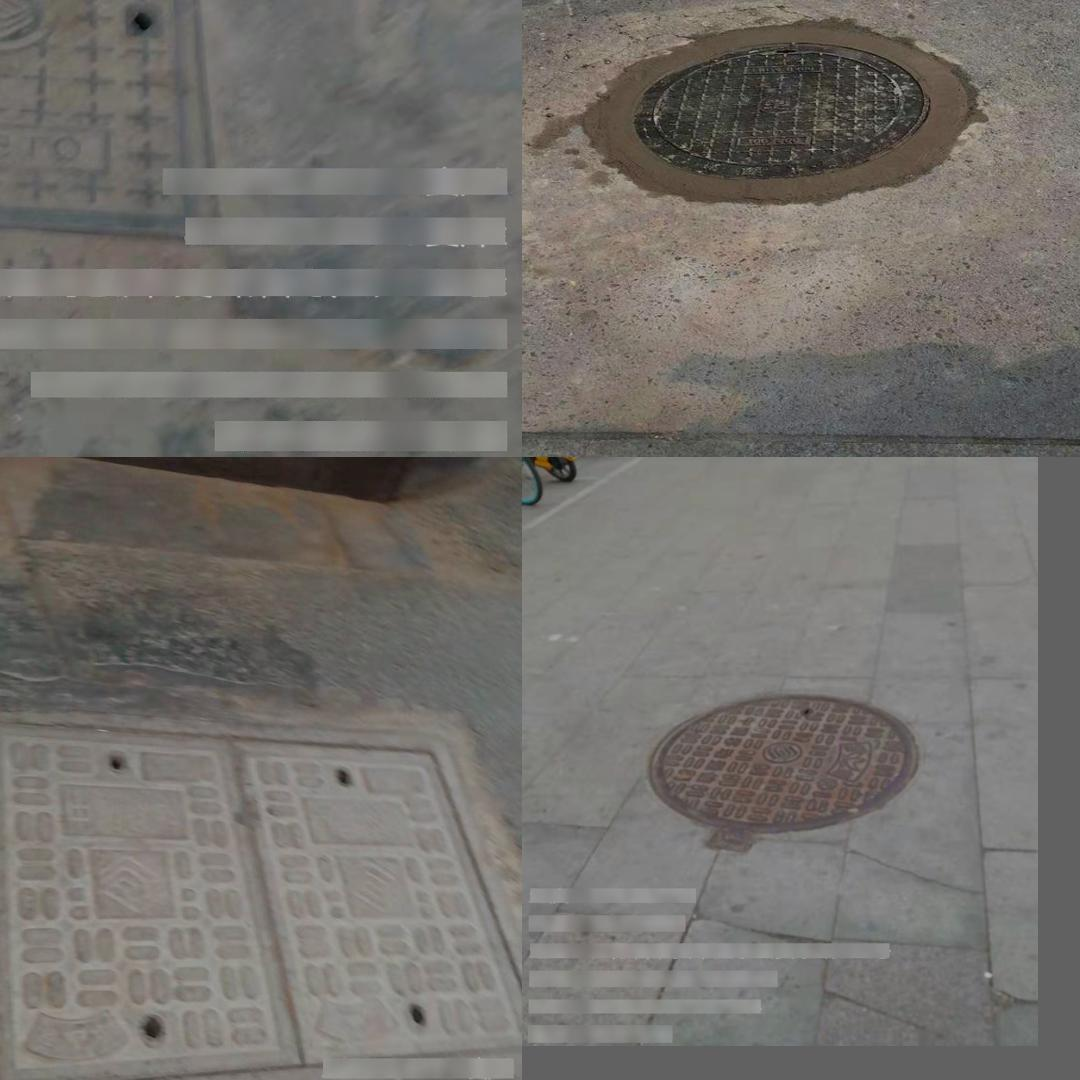good: (0, 716, 518, 1080), (566, 5, 983, 208), (0, 0, 258, 236), (648, 691, 919, 854)
